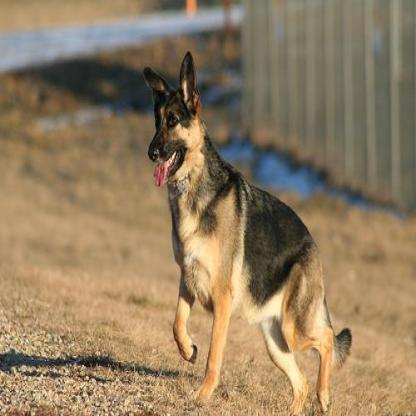German_shepherd: (141, 51, 351, 414)
